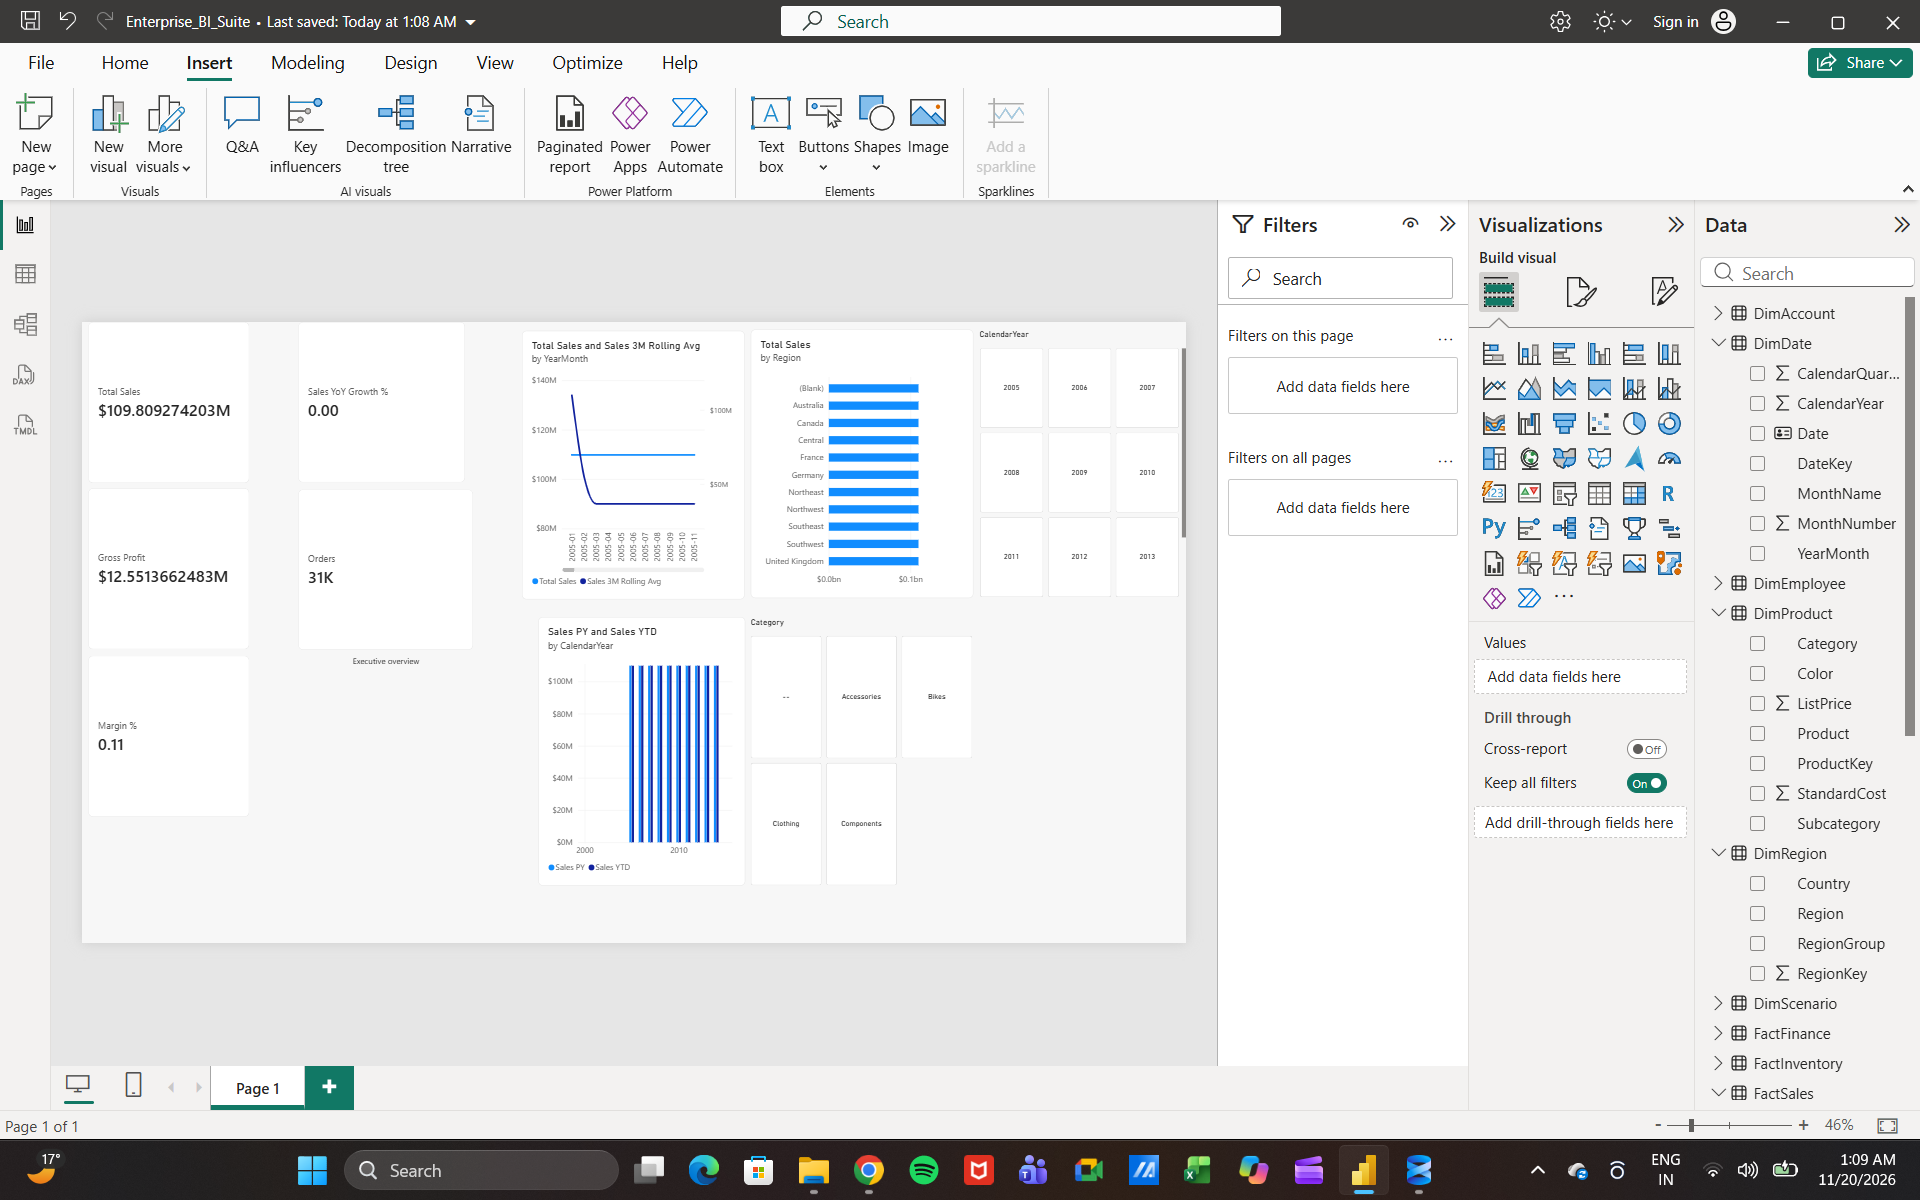

The dashboard page shown, as its layout file describes it:
{"tool":"powerbi","page":{"name":"Page 1","canvas":[1920,1080],"ordinal":0},"visuals":[{"type":"cardVisual","fields":{"Data":["FactSales.Total Sales"]},"box":[10,0,280,280],"z":0},{"type":"cardVisual","fields":{"Data":["FactSales.Gross Profit"]},"box":[10,290,280,280],"z":1000},{"type":"cardVisual","fields":{"Data":["FactSales.Margin %"]},"box":[10,580,280,280],"z":2000},{"type":"cardVisual","fields":{"Data":["FactSales.Sales YoY Growth %"]},"box":[376.7,0,290.2,279.9],"z":3000},{"type":"cardVisual","fields":{"Data":["FactSales.Orders"]},"box":[376.7,290.2,304.6,279.9],"z":4000},{"type":"lineChart","fields":{"Category":["DimDate.YearMonth"],"Y":["FactSales.Total Sales"],"Y2":["FactSales.Sales 3M Rolling Avg"]},"box":[765.7,14.4,387,467.2],"z":5000},{"type":"clusteredBarChart","fields":{"Category":["DimRegion.Region"],"Y":["FactSales.Total Sales"]},"box":[1163,14,387,467],"z":6000},{"type":"clusteredColumnChart","fields":{"Category":["DimDate.CalendarYear"],"Y":["FactSales.Sales PY","FactSales.Sales YTD"]},"box":[792.5,512.5,360,467],"z":7000},{"type":"advancedSlicerVisual","fields":{"Values":["DimDate.CalendarYear"]},"box":[1560,14,360,467],"z":8000},{"type":"advancedSlicerVisual","fields":{"Values":["DimProduct.Category"]},"box":[1163,513,387,467],"z":9000},{"type":"textbox","box":[1560,513,360,467],"z":10000},{"type":"textbox","box":[10,860,280,150],"z":11000},{"type":"textbox","box":[377,580,305,280],"z":11001}]}

Visuals, with their boxes on the page's 1920x1080 design canvas (x1, y1, x2, y2). These are canvas units, not pixel positions in the 1920x1200 screenshot, which may show the page scaled, cropped or inside an application window:
cardVisual - FactSales.Total Sales: 10,0,290,280
cardVisual - FactSales.Gross Profit: 10,290,290,570
cardVisual - FactSales.Margin %: 10,580,290,860
cardVisual - FactSales.Sales YoY Growth %: 377,0,667,280
cardVisual - FactSales.Orders: 377,290,681,570
lineChart - DimDate.YearMonth x FactSales.Total Sales: 766,14,1153,482
clusteredBarChart - DimRegion.Region x FactSales.Total Sales: 1163,14,1550,481
clusteredColumnChart - DimDate.CalendarYear x FactSales.Sales PY: 792,512,1152,980
advancedSlicerVisual - DimDate.CalendarYear: 1560,14,1920,481
advancedSlicerVisual - DimProduct.Category: 1163,513,1550,980
textbox: 1560,513,1920,980
textbox: 10,860,290,1010
textbox: 377,580,682,860
